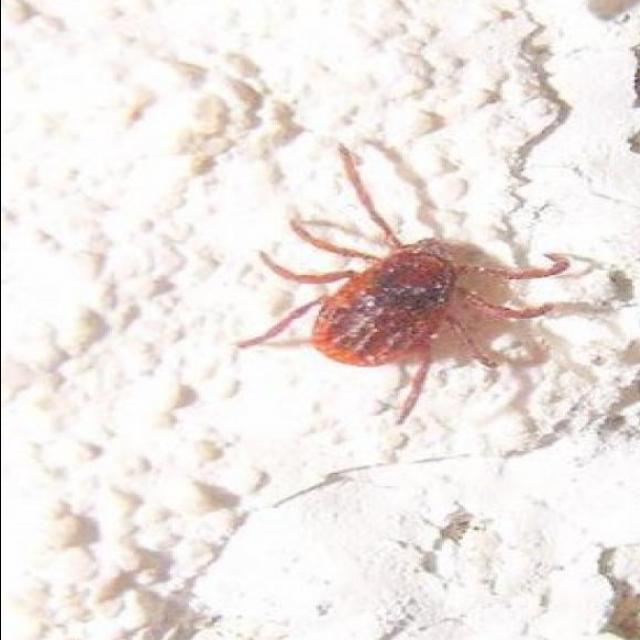Rhipicephalus Sanguineus-F: (234, 144, 592, 424)
